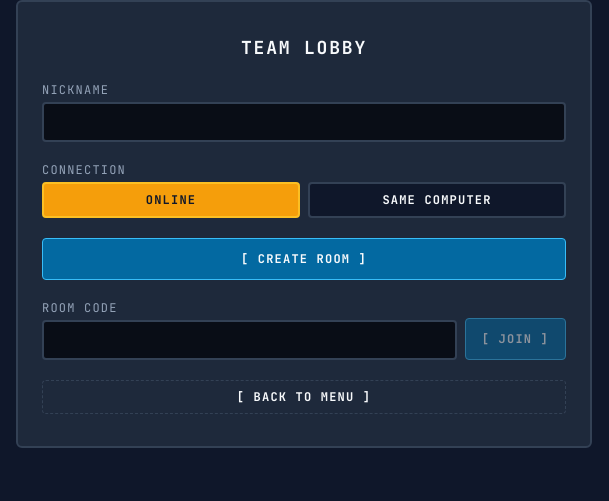
TeamLobby chat › refuses a nickname that masking changes, and still connects a clean one
Type "fuck you" into the field labelled "Nickname" at (304, 122), box [42,102,566,142]
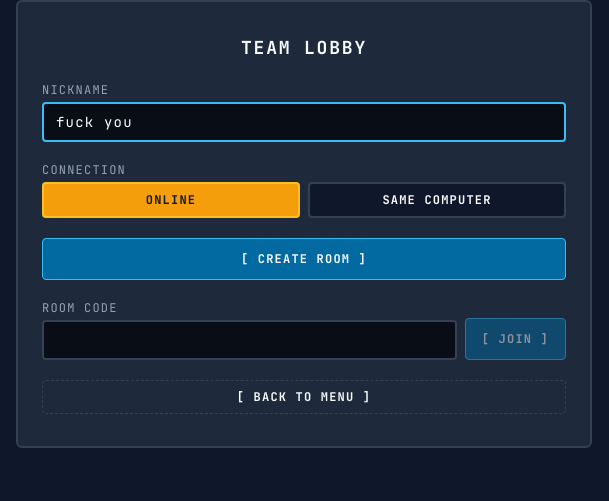
Click the button "[ Create Room ]" at (304, 259), box [42,238,566,280]
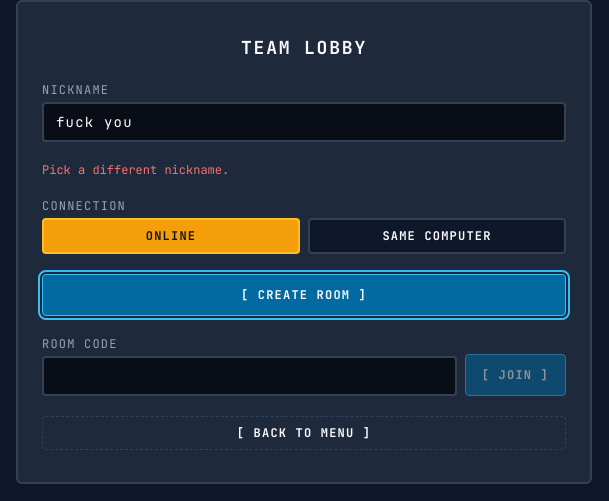
Expected: the message reads "Pick a different nickname.", [42,162,229,178]
Replace the text in the field labelled "Nickname" with "Ana" at (304, 122), box [42,102,566,142]
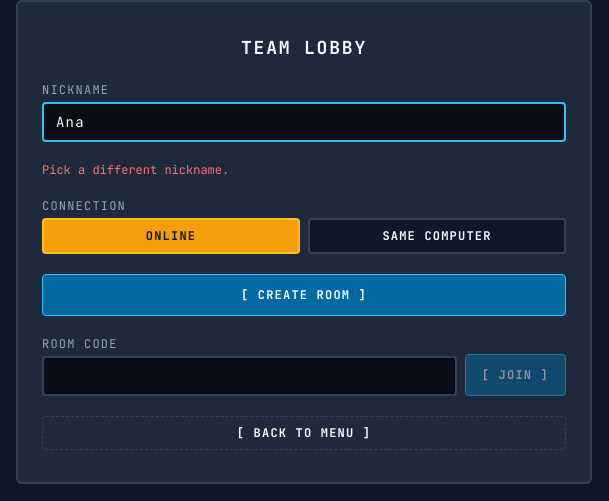
Click the button "[ Create Room ]" at (304, 295), box [42,274,566,316]
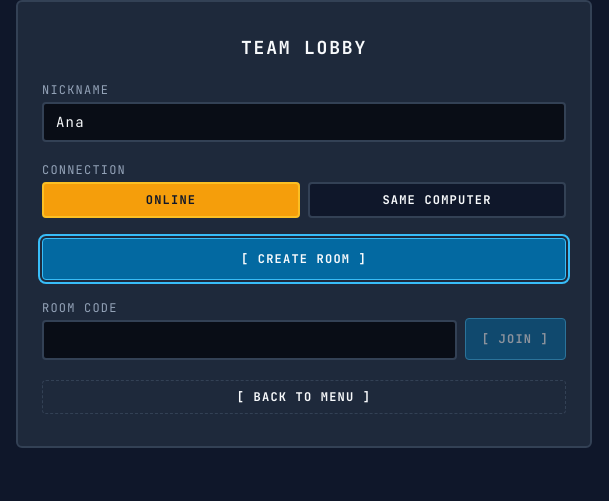
Expected: the text "Pick a different nickname." is gone
